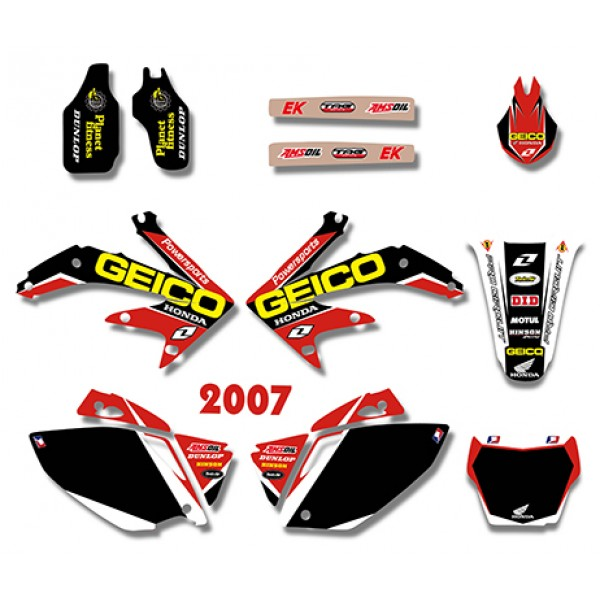geico: (88, 246, 237, 330), (251, 247, 385, 324)
